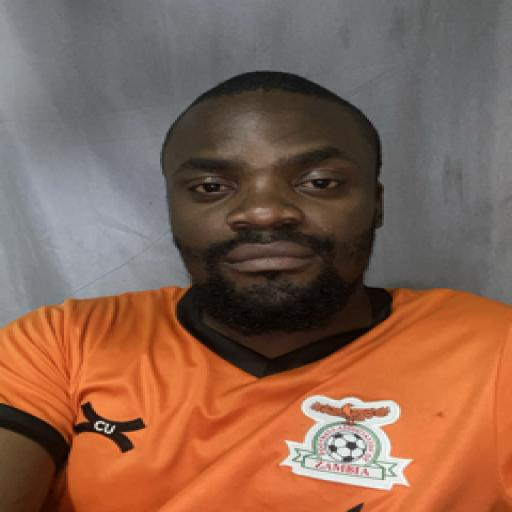JEANLUC: (153, 69, 376, 346)
